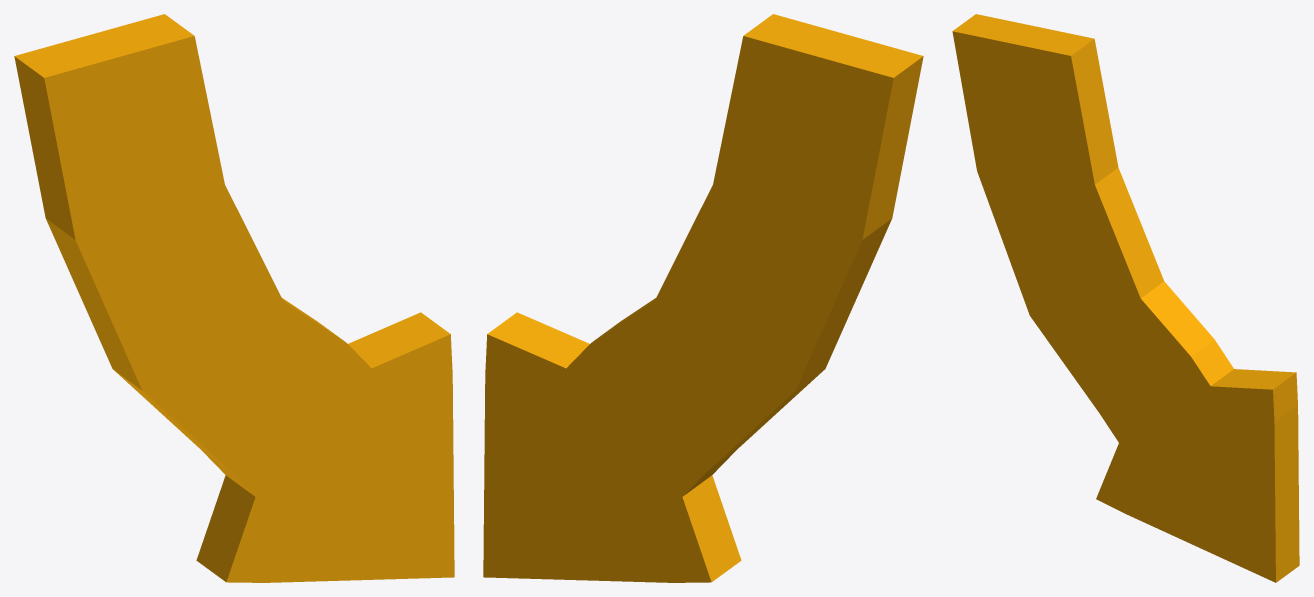
File: CasinoSign.fbx
The picture shows the model from 3 angles, left to right: view 1: azimuth 30°, elevation 25°; view 2: azimuth 150°, elevation 25°; view 3: azimuth 330°, elevation 25°; orthographic projection. The views are drawn at different scales.
Parts seen in each view (by area): view 1: Cube; view 2: Cube; view 3: Cube.
Boxes of the visible parts, x1,y1,x2,y2 form: Cube: [14, 14, 454, 582]; Cube: [483, 14, 923, 582]; Cube: [952, 14, 1299, 582].
Bounding box in the file's own units: 472 × 665 × 59.64.
